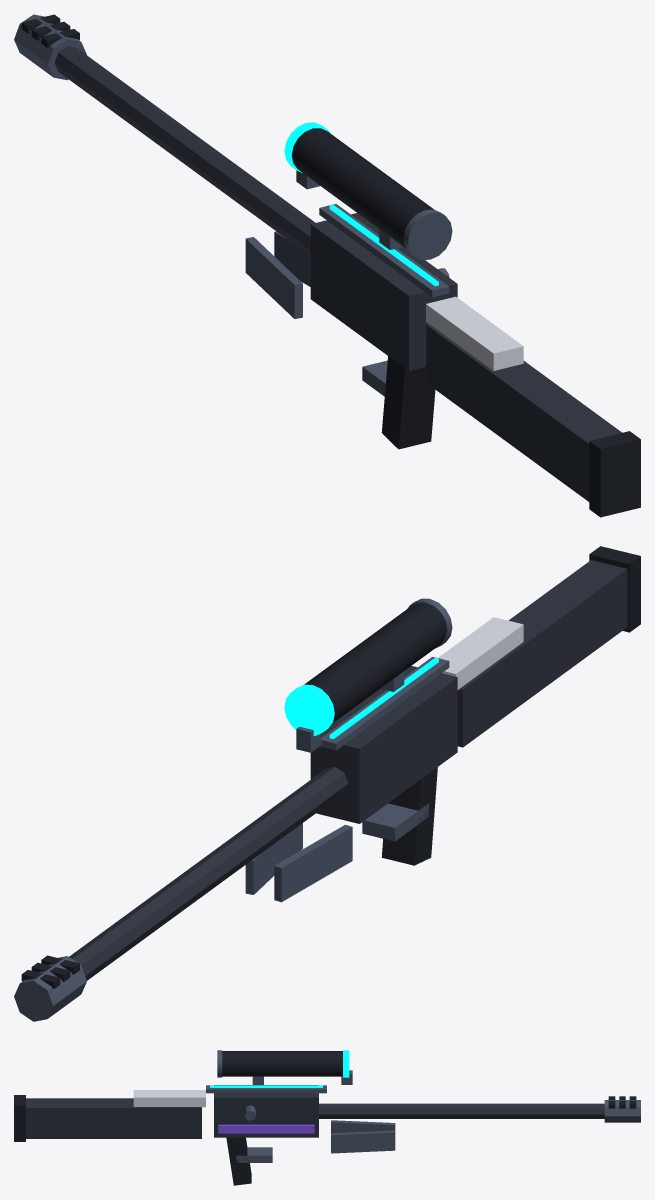
Rendered from wpn_3_longshot.glb.
The picture shows the model from 3 angles, top to bottom: view 1: azimuth 30°, elevation 25°; view 2: azimuth 150°, elevation 25°; view 3: azimuth 270°, elevation 25°; orthographic projection. The views are drawn at different scales.
Visible parts, largest first — view 1: wpn_3_longshot; view 2: wpn_3_longshot; view 3: wpn_3_longshot.
Part boxes in pixels (x1,y1,x2,y2): wpn_3_longshot: (14,14,640,517); wpn_3_longshot: (14,546,640,1021); wpn_3_longshot: (14,1050,640,1185).
Size of the model in its own units: 0.1143 by 0.3564 by 1.56.
